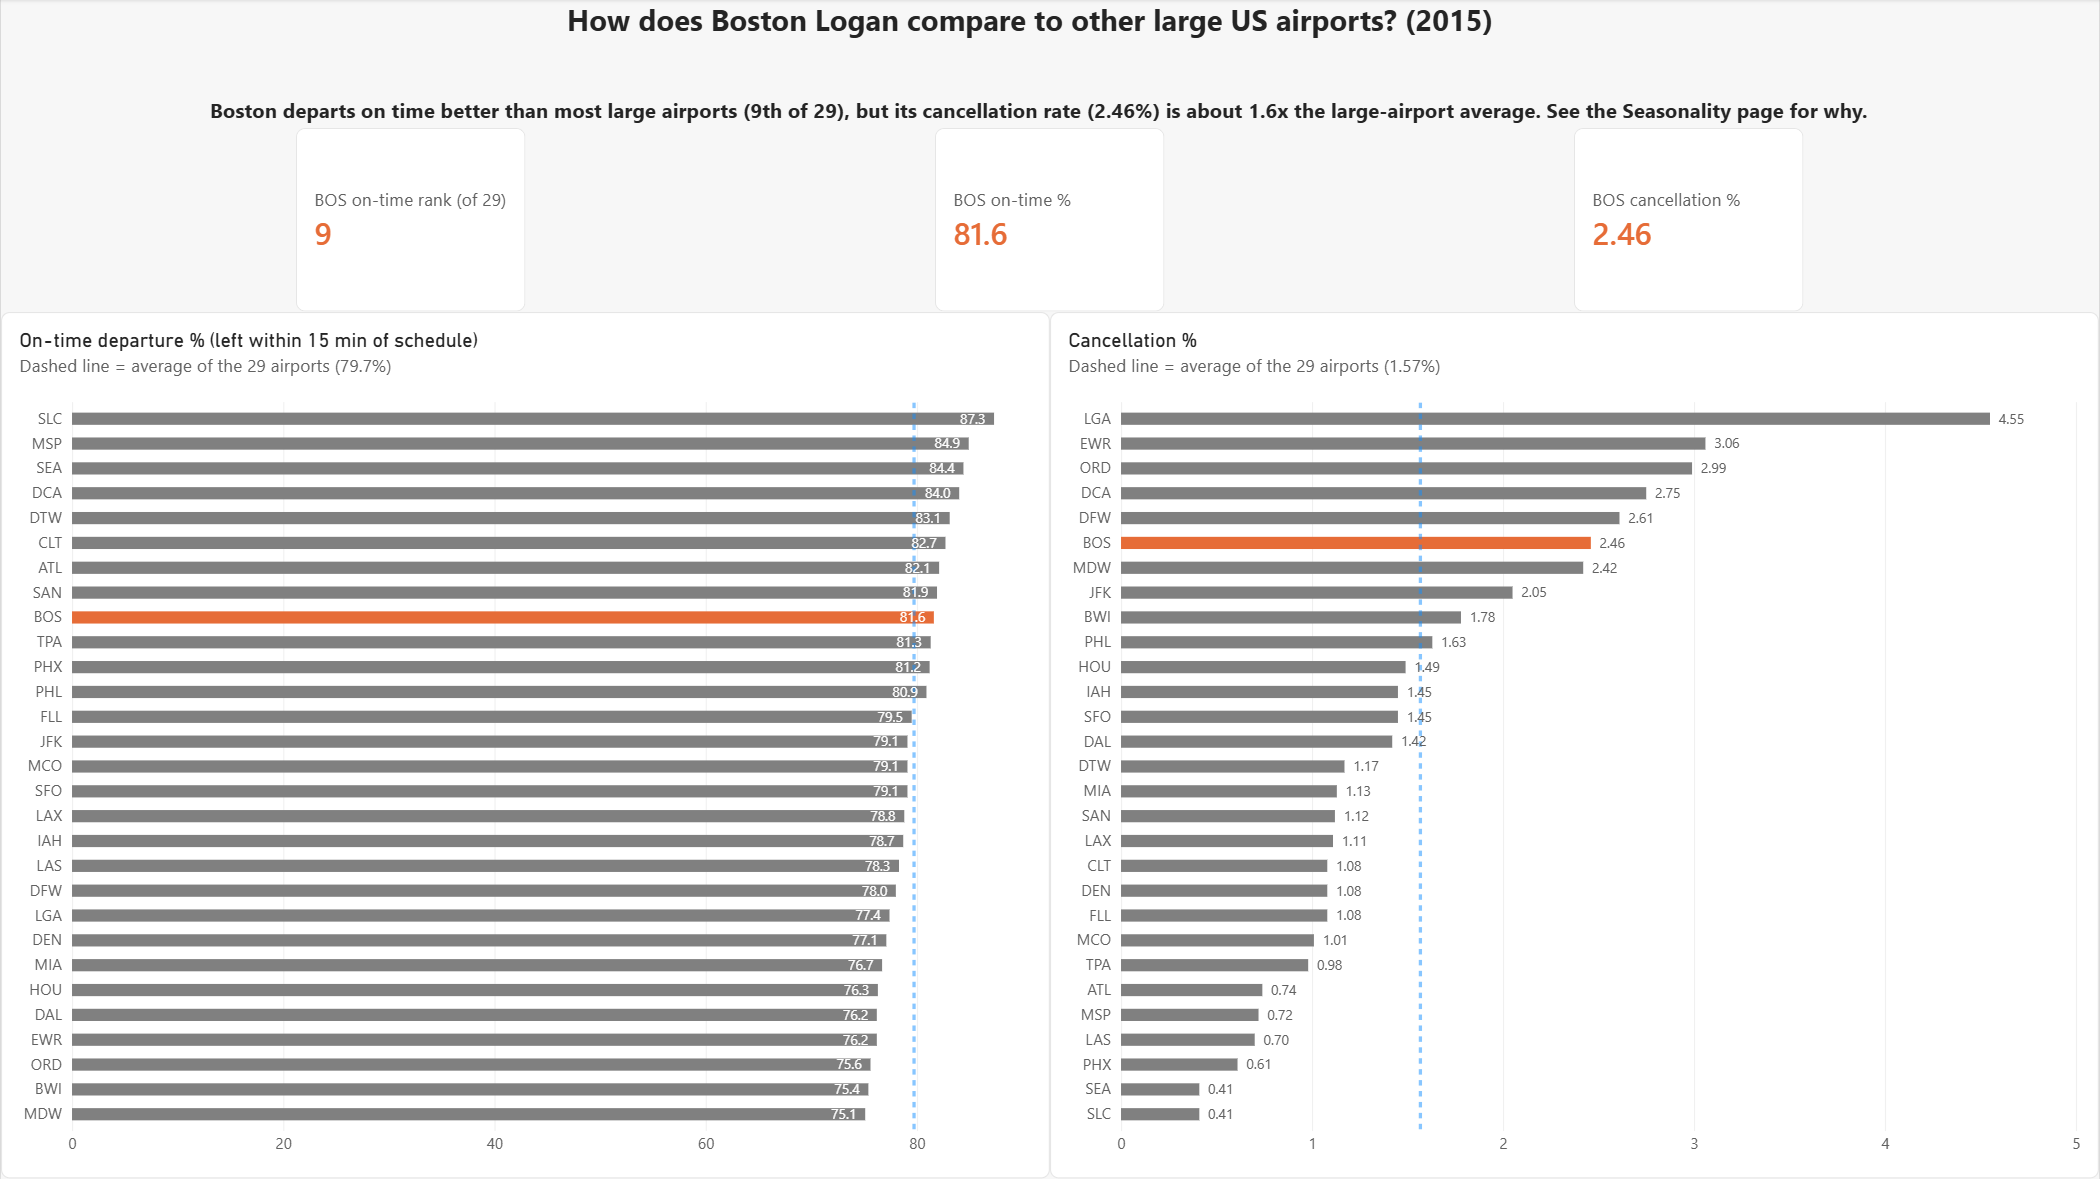

What the dashboard file says about the page in this screenshot:
{"tool":"powerbi","page":{"name":"Boston vs Large Airports","canvas":[1920,1080],"ordinal":0},"visuals":[{"type":"textbox","box":[518.3,0,883.3,62.5],"z":0},{"type":"clusteredBarChart","title":"On-time departure % (left within 15 min of schedule)","fields":{"Category":["public v_airport_on_time.airport_code"],"Y":["Sum(public v_airport_on_time.on_time_pct)"]},"box":[0,286.6,960,793.1],"z":1},{"type":"clusteredBarChart","title":"Cancellation %","fields":{"Category":["public v_airport_on_time.airport_code"],"Y":["Sum(public v_airport_on_time.cancellation_pct)"]},"box":[960,286.6,960,793.1],"z":2},{"type":"cardVisual","fields":{"Data":["Sum(public v_airport_on_time.on_time_rank)"]},"box":[269.9,117.8,210.1,168.8],"z":3},{"type":"cardVisual","fields":{"Data":["Sum(public v_airport_on_time.on_time_pct)"]},"box":[855,117.8,210.1,168.8],"z":4},{"type":"cardVisual","fields":{"Data":["Sum(public v_airport_on_time.cancellation_pct)"]},"box":[1440,117.8,210.1,168.8],"z":5},{"type":"textbox","box":[191.4,88.3,1536.2,29.4],"z":6}]}

Visuals, with their boxes in screenshot pixels (x1, y1, x2, y2), scaled from the page's 1920x1080 canvas onto the 2100x1179 screenshot:
textbox: <box>567,0,1533,68</box>
"On-time departure % (left within 15 min of schedule)" clusteredBarChart: <box>0,313,1050,1178</box>
"Cancellation %" clusteredBarChart: <box>1050,313,2099,1178</box>
cardVisual - Sum(public v_airport_on_time.on_time_rank): <box>295,129,525,313</box>
cardVisual - Sum(public v_airport_on_time.on_time_pct): <box>935,129,1165,313</box>
cardVisual - Sum(public v_airport_on_time.cancellation_pct): <box>1575,129,1805,313</box>
textbox: <box>209,96,1890,128</box>
